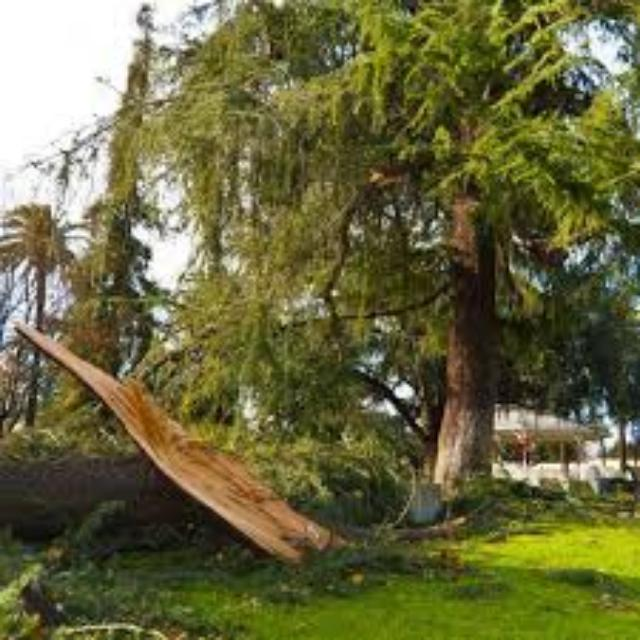Fallen Tree: (26, 317, 334, 563)
